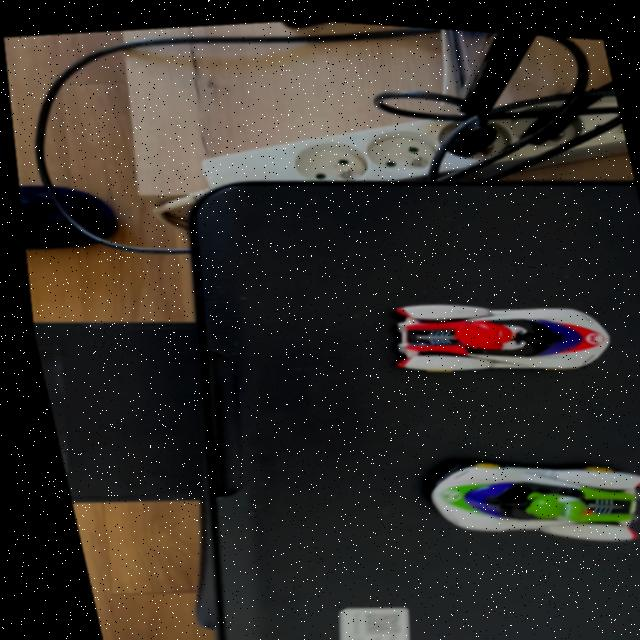mario: (368, 271, 627, 394)
yoshi: (392, 420, 640, 567)
